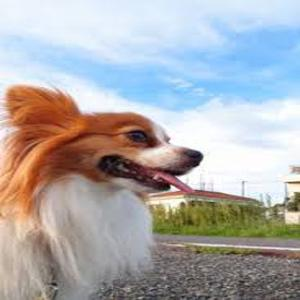yell: (0, 83, 204, 300)
